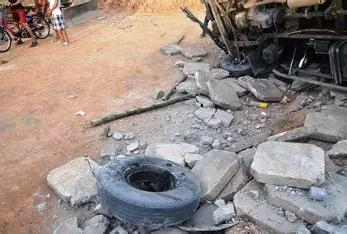ROAD_OBSTACLE: (192, 135, 327, 222), (92, 152, 202, 227)
